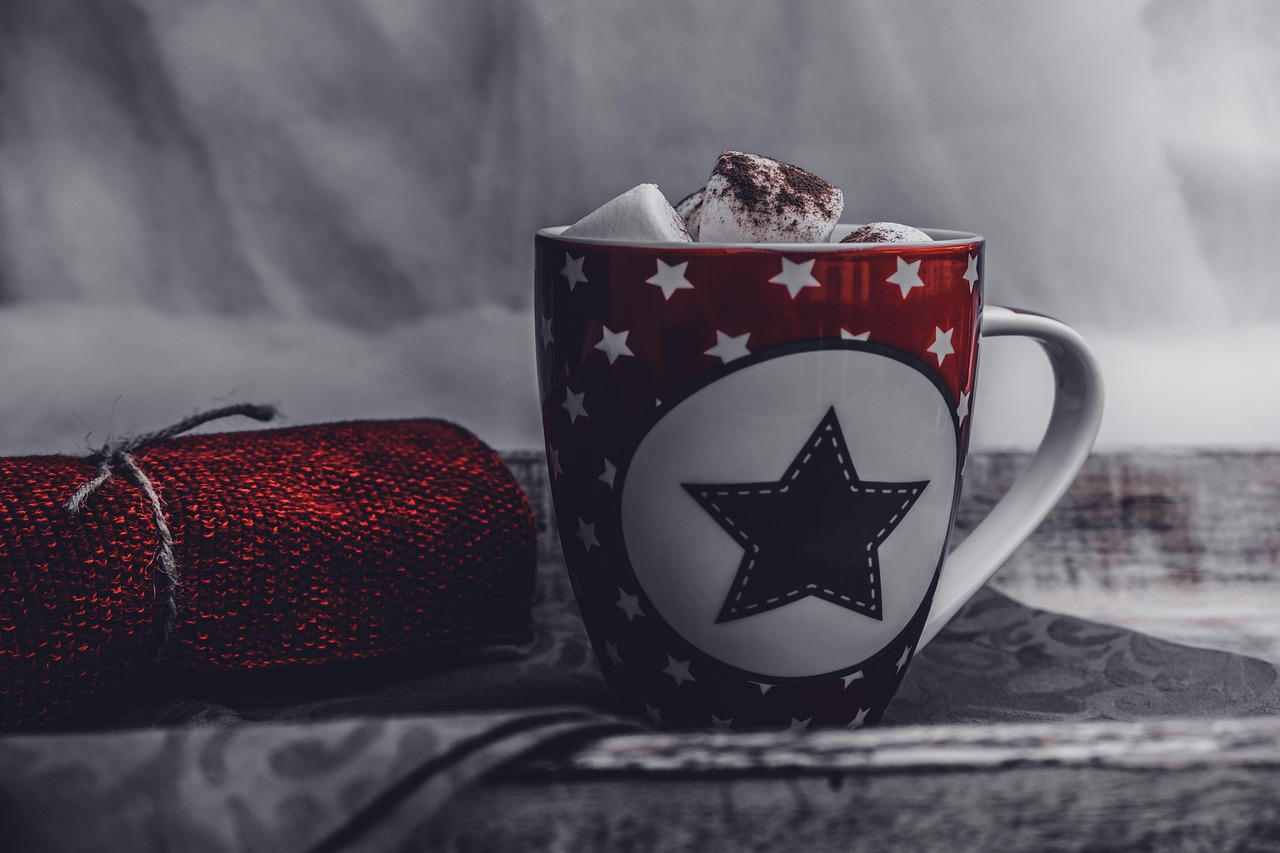mug: (509, 178, 1127, 746)
